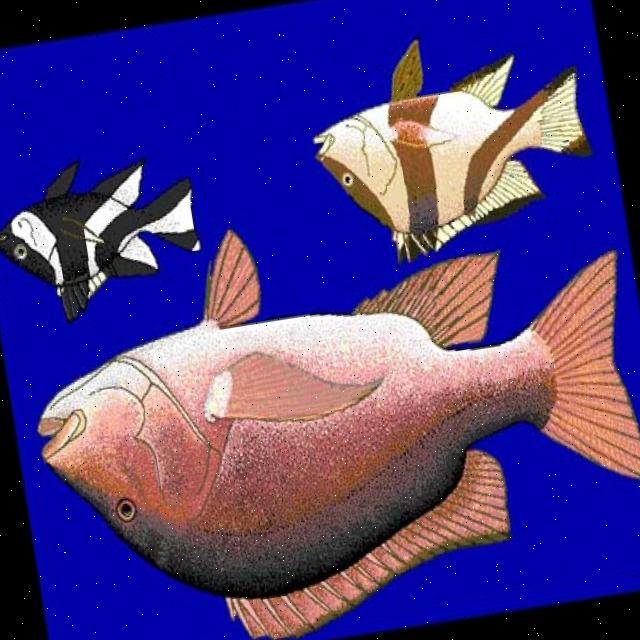ikan: (10, 173, 640, 640), (298, 14, 605, 278), (0, 143, 211, 335)
